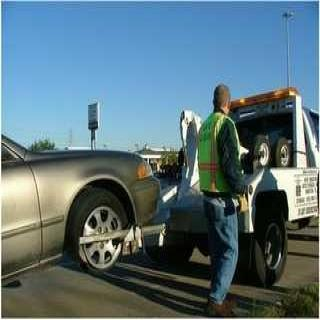Towing_truck: (144, 85, 318, 288)
